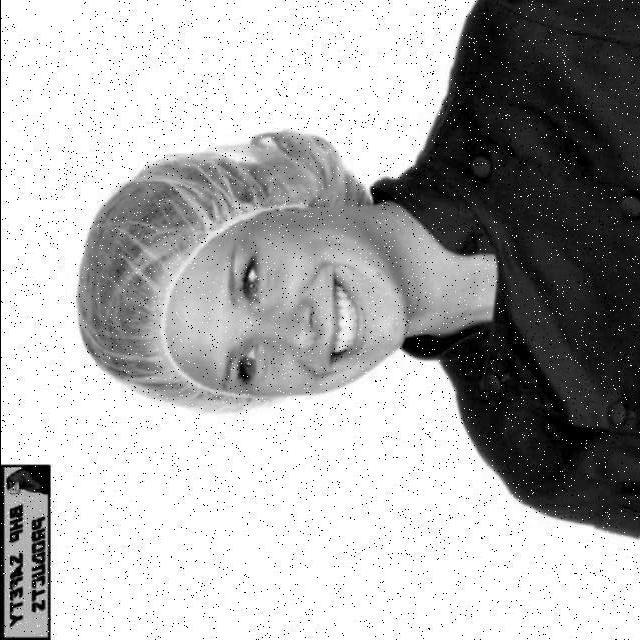no_hairnet: (274, 264, 398, 384)
